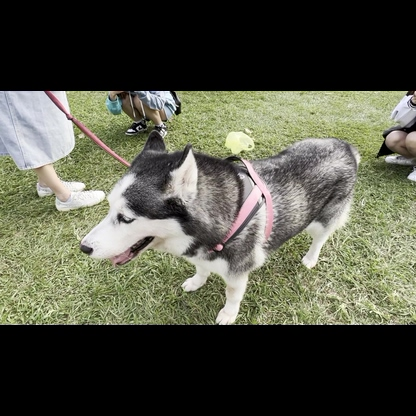husky: (73, 127, 367, 321)
